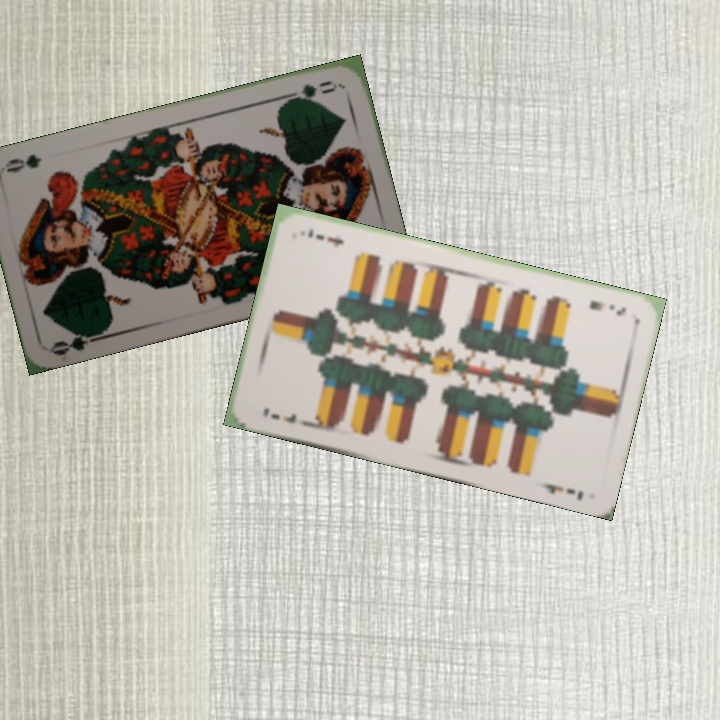E7: (586, 295, 629, 318), (259, 403, 300, 426)
GO: (48, 327, 107, 359), (282, 76, 340, 106)
